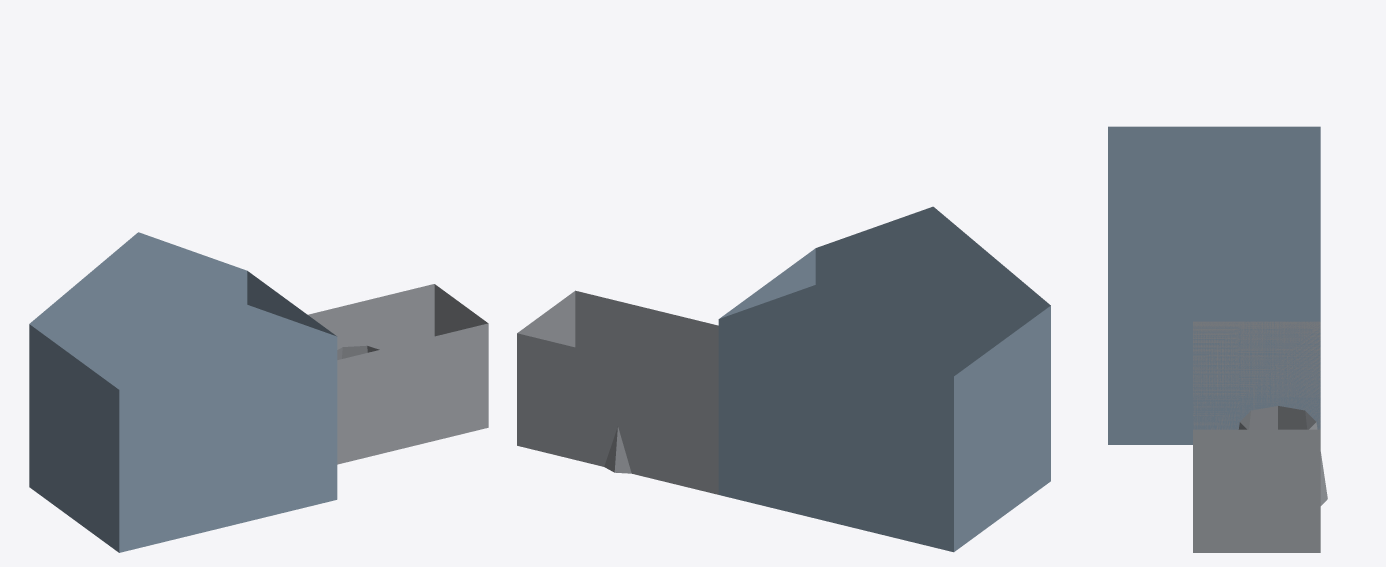
The model's file is Bld_I_med_L2_A.fbx.
3 renders of one model, left to right at view 1: azimuth 30°, elevation 25°; view 2: azimuth 150°, elevation 25°; view 3: azimuth 270°, elevation 25°, orthographic. The views are drawn at different scales.
Visible parts, largest first — view 1: Bld_I_med_L2_A_LOD0; view 2: Bld_I_med_L2_A_LOD0; view 3: Bld_I_med_L2_A_LOD0.
Boxes of the visible parts, <box> form: Bld_I_med_L2_A_LOD0: <box>29,232,488,552</box>; Bld_I_med_L2_A_LOD0: <box>517,206,1050,552</box>; Bld_I_med_L2_A_LOD0: <box>1108,126,1327,552</box>.
Size of what is drawn, in the model's own units: 1337 by 1225 by 650.
Materials: 1 (1 with a texture image).
